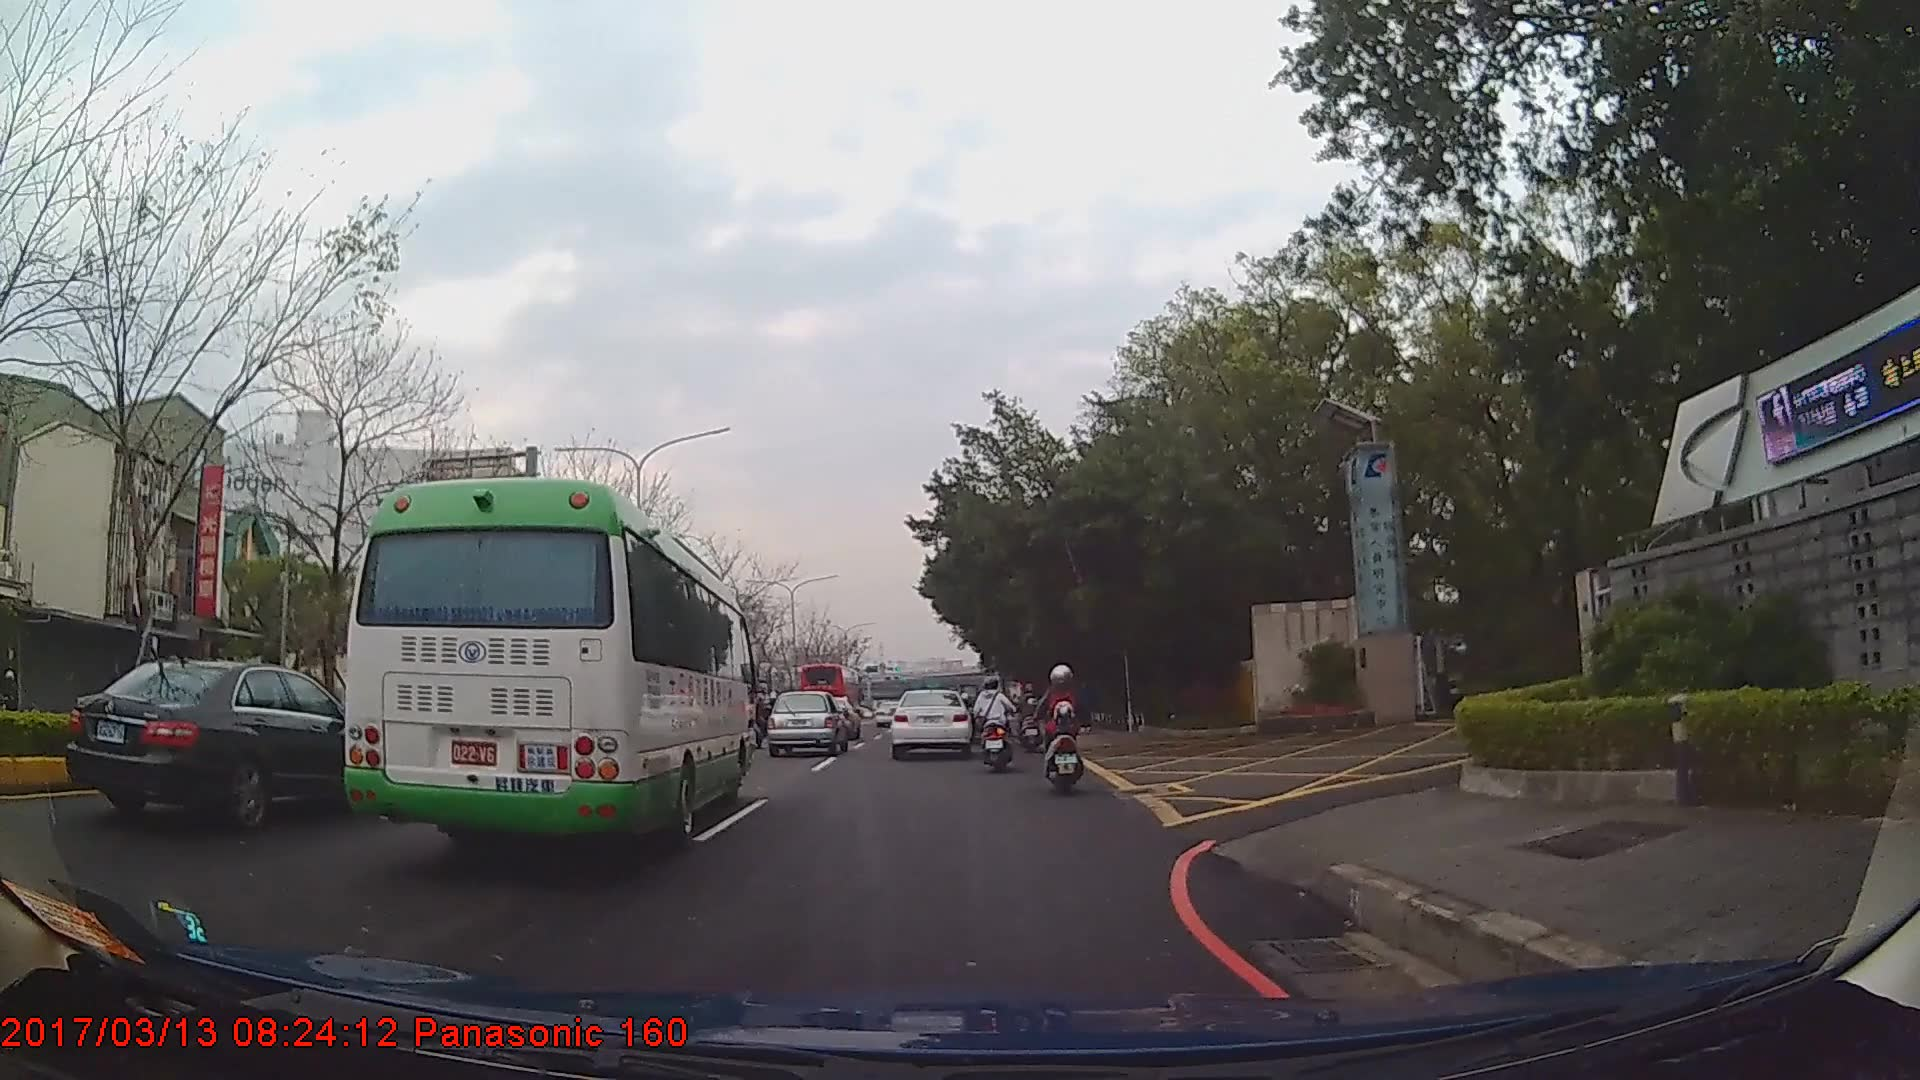rider: (1041, 664, 1085, 800), (971, 676, 1014, 773), (1017, 679, 1044, 751), (745, 687, 772, 742)
vehicle: (332, 470, 754, 854), (64, 654, 404, 830), (888, 685, 971, 758), (765, 689, 850, 755), (796, 658, 861, 722)
